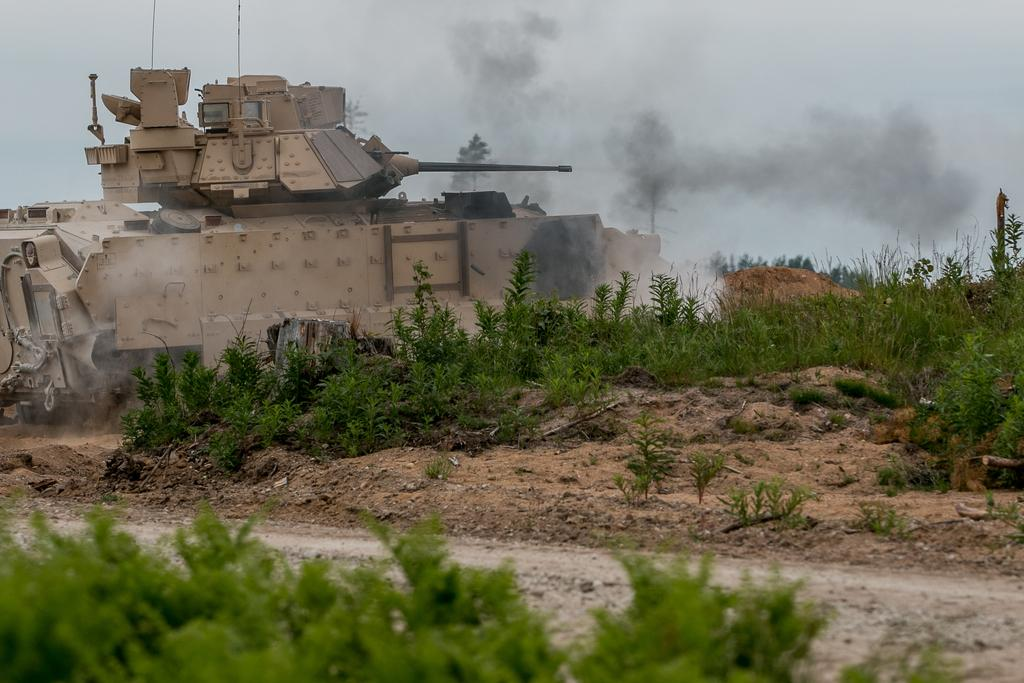Tank: (0, 0, 675, 425)
